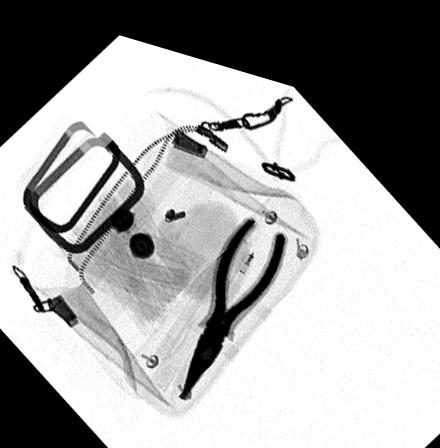Pliers: (179, 199, 285, 387)
